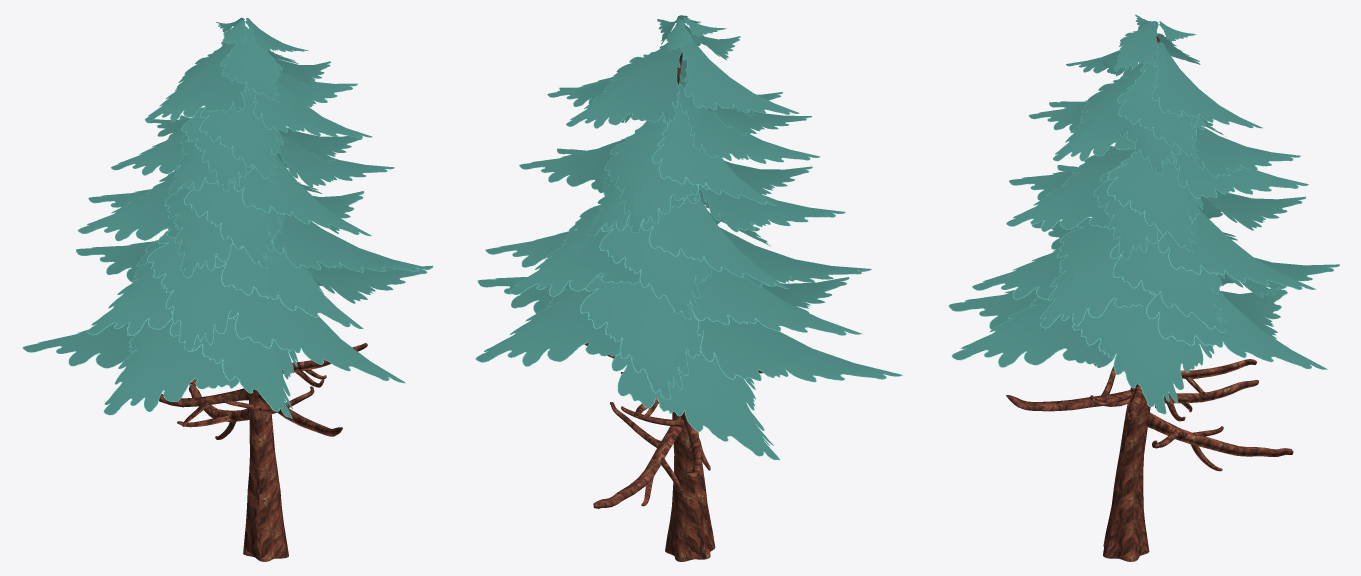
Rendered from gtree_pine_1.glb.
3 renders of one model, left to right at view 1: azimuth 30°, elevation 25°; view 2: azimuth 150°, elevation 25°; view 3: azimuth 270°, elevation 25°, orthographic. The views are drawn at different scales.
Parts seen in each view (by area): view 1: model; view 2: model; view 3: model.
Part boxes in pixels (box(x1,y1,x2,y2)): model: box(22, 17, 433, 561); model: box(475, 15, 902, 561); model: box(948, 14, 1339, 561).
Bounding box in the file's own units: 5.75 × 7.61 × 5.28.
Materials: 2 (2 with a texture image).
